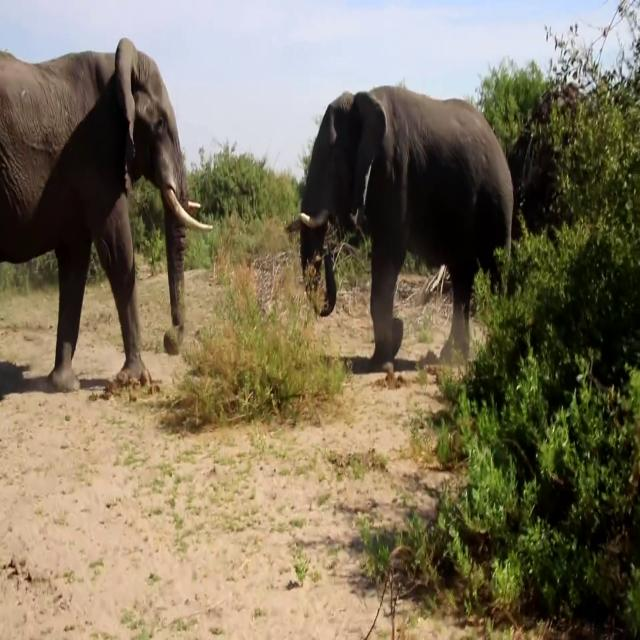Elephant: (0, 36, 213, 392), (285, 84, 514, 374)
